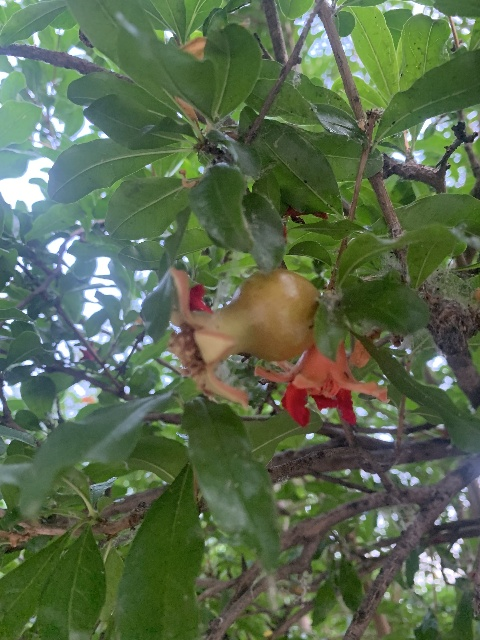early-fruit: (167, 267, 317, 410)
flower: (252, 341, 390, 427)
